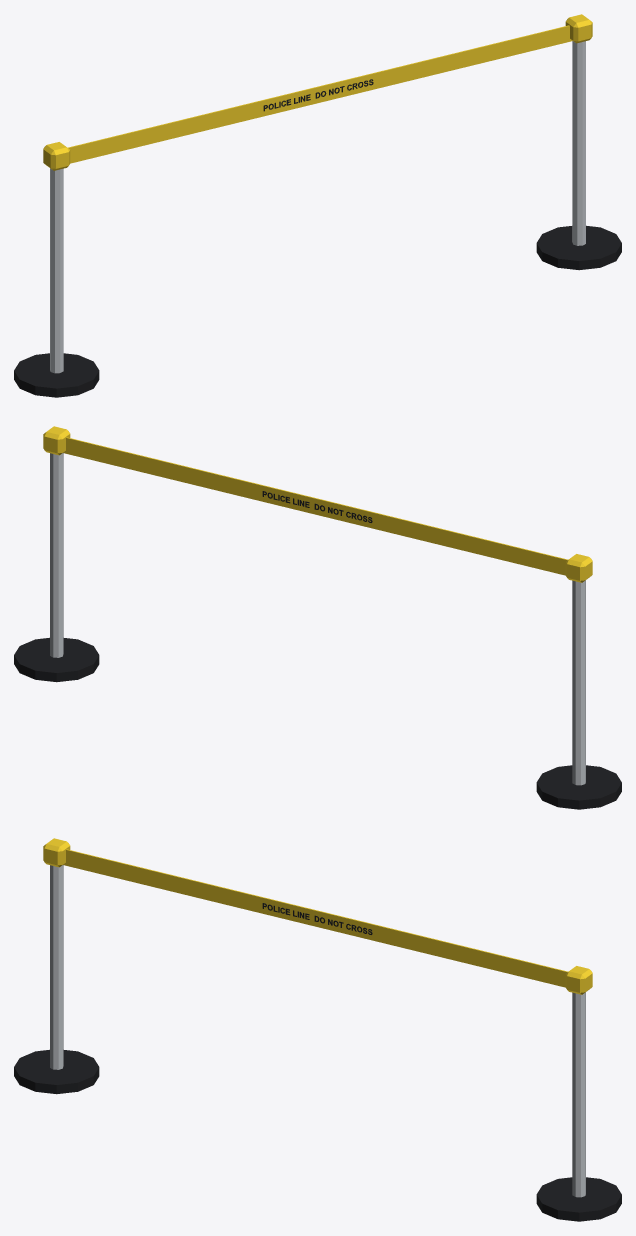
Rendered from PD_TapeStand.fbx.
3 views of the same model, one above another, from view 1: azimuth 30°, elevation 25°; view 2: azimuth 150°, elevation 25°; view 3: azimuth 330°, elevation 25° (orthographic).
Visible parts, largest first — view 1: PD_TapeStand_Mesh; view 2: PD_TapeStand_Mesh; view 3: PD_TapeStand_Mesh.
Boxes of the visible parts, x1,y1,x2,y2 form: PD_TapeStand_Mesh: (14, 14, 621, 397); PD_TapeStand_Mesh: (14, 426, 621, 809); PD_TapeStand_Mesh: (14, 838, 621, 1221).
Bounding box in the file's own units: 2.74 × 1.02 × 0.34.
